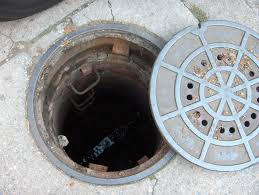Manhole-Open: (24, 19, 209, 186)
